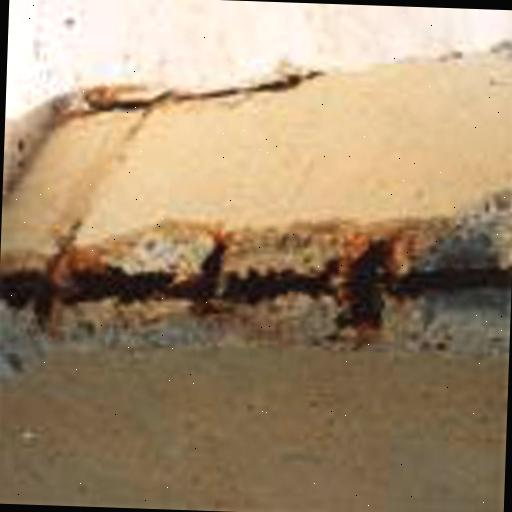spalling: (0, 209, 509, 355)
